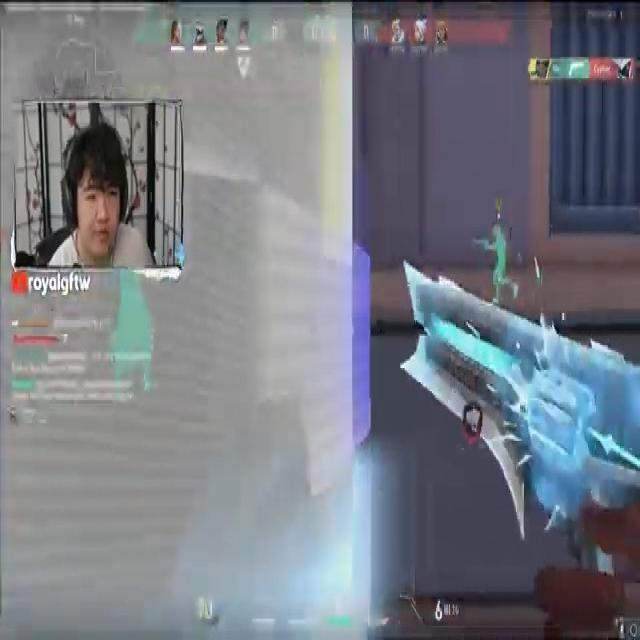ally behind wall: (478, 212, 524, 306)
